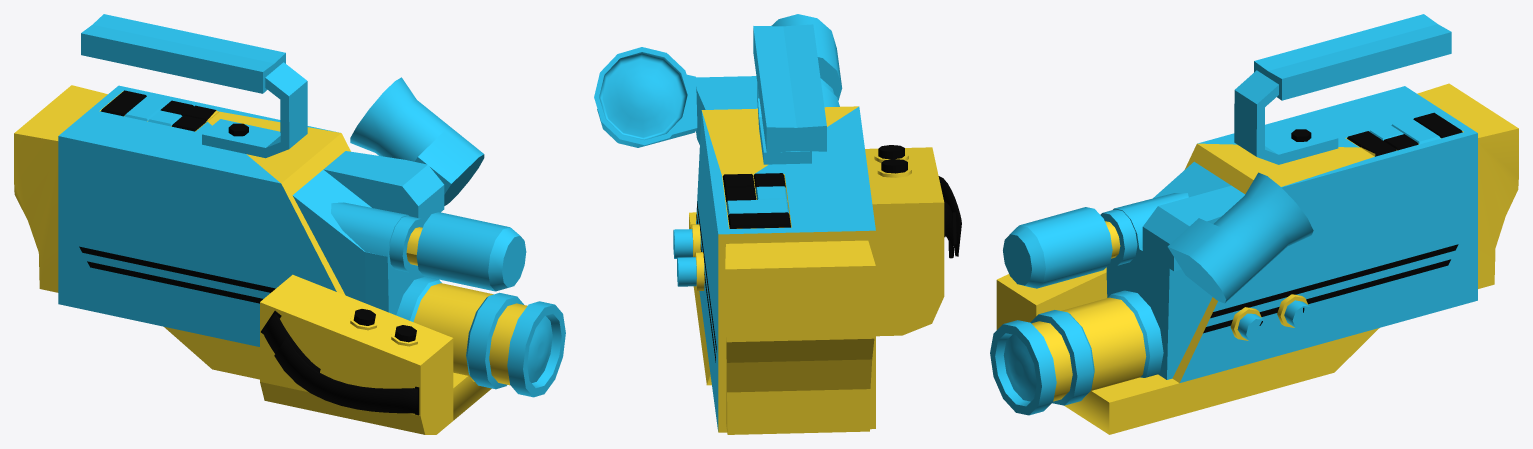
The model's file is ToyObject_190.fbx.
3 views of the same model, side by side, from view 1: azimuth 30°, elevation 25°; view 2: azimuth 150°, elevation 25°; view 3: azimuth 270°, elevation 25° (orthographic). The views are drawn at different scales.
Parts seen in each view (by area): view 1: 1.054; view 2: 1.054; view 3: 1.054.
Boxes of the visible parts, x1,y1,x2,y2 form: 1.054: (14, 14, 565, 434); 1.054: (594, 14, 961, 434); 1.054: (990, 14, 1518, 434).
Bounding box in the file's own units: 0.2089 × 0.164 × 0.2736.
